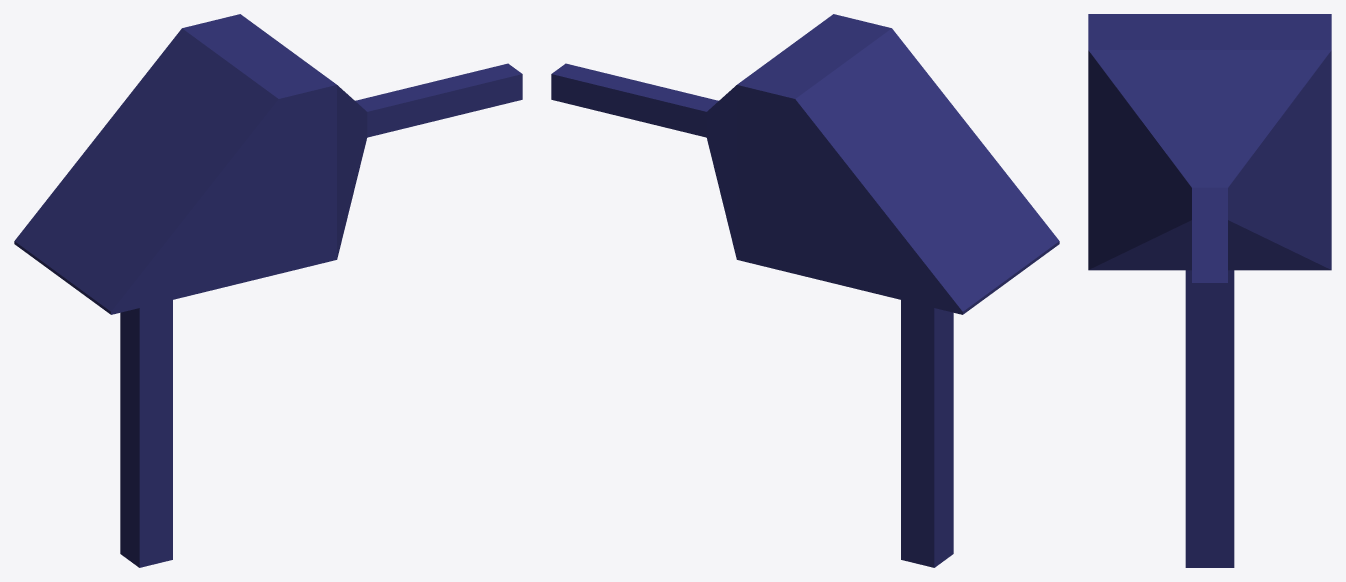
Rendered from basicTower.glb.
The picture shows the model from 3 angles, left to right: view 1: azimuth 30°, elevation 25°; view 2: azimuth 150°, elevation 25°; view 3: azimuth 270°, elevation 25°; orthographic projection. The views are drawn at different scales.
Parts seen in each view (by area): view 1: RegularShooter; view 2: RegularShooter; view 3: RegularShooter.
Part boxes in pixels (left/top/right/bottom): RegularShooter: left=14, top=14, right=522, bottom=567; RegularShooter: left=551, top=14, right=1059, bottom=567; RegularShooter: left=1088, top=14, right=1331, bottom=567.
Bounding box in the file's own units: 27.09 × 27.04 × 10.03.
